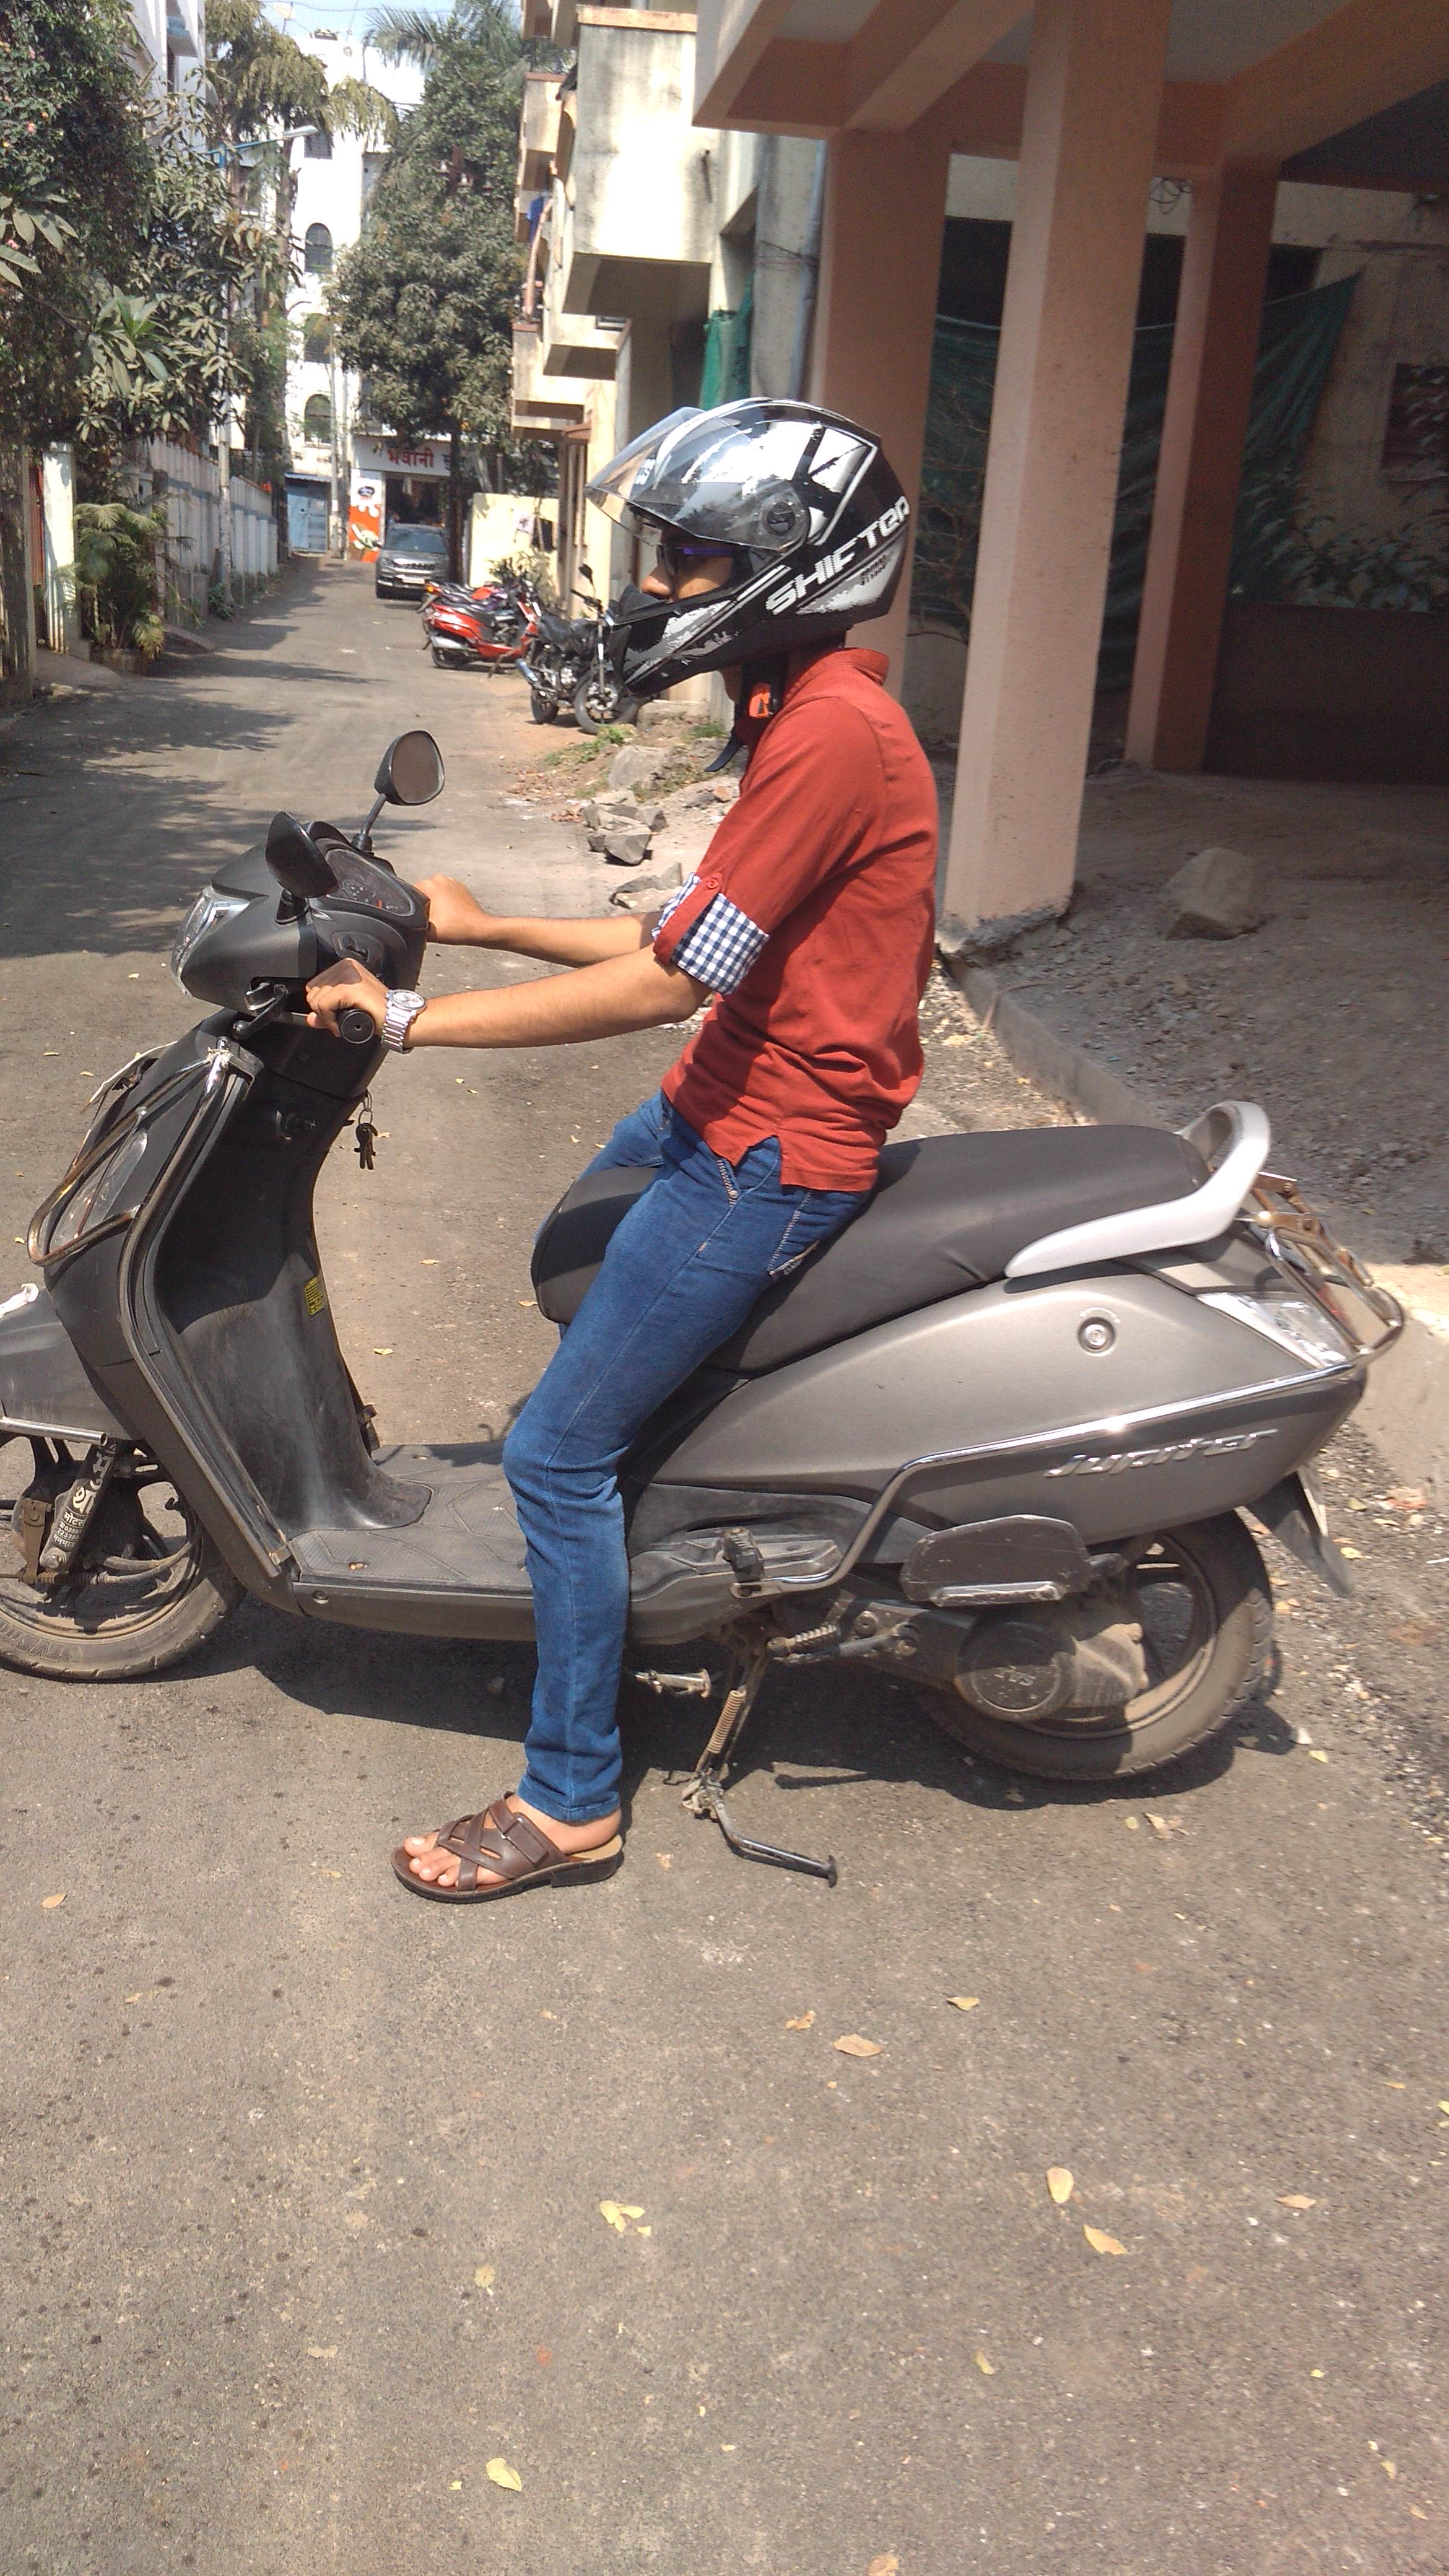helmet: (456, 405, 993, 1483)
